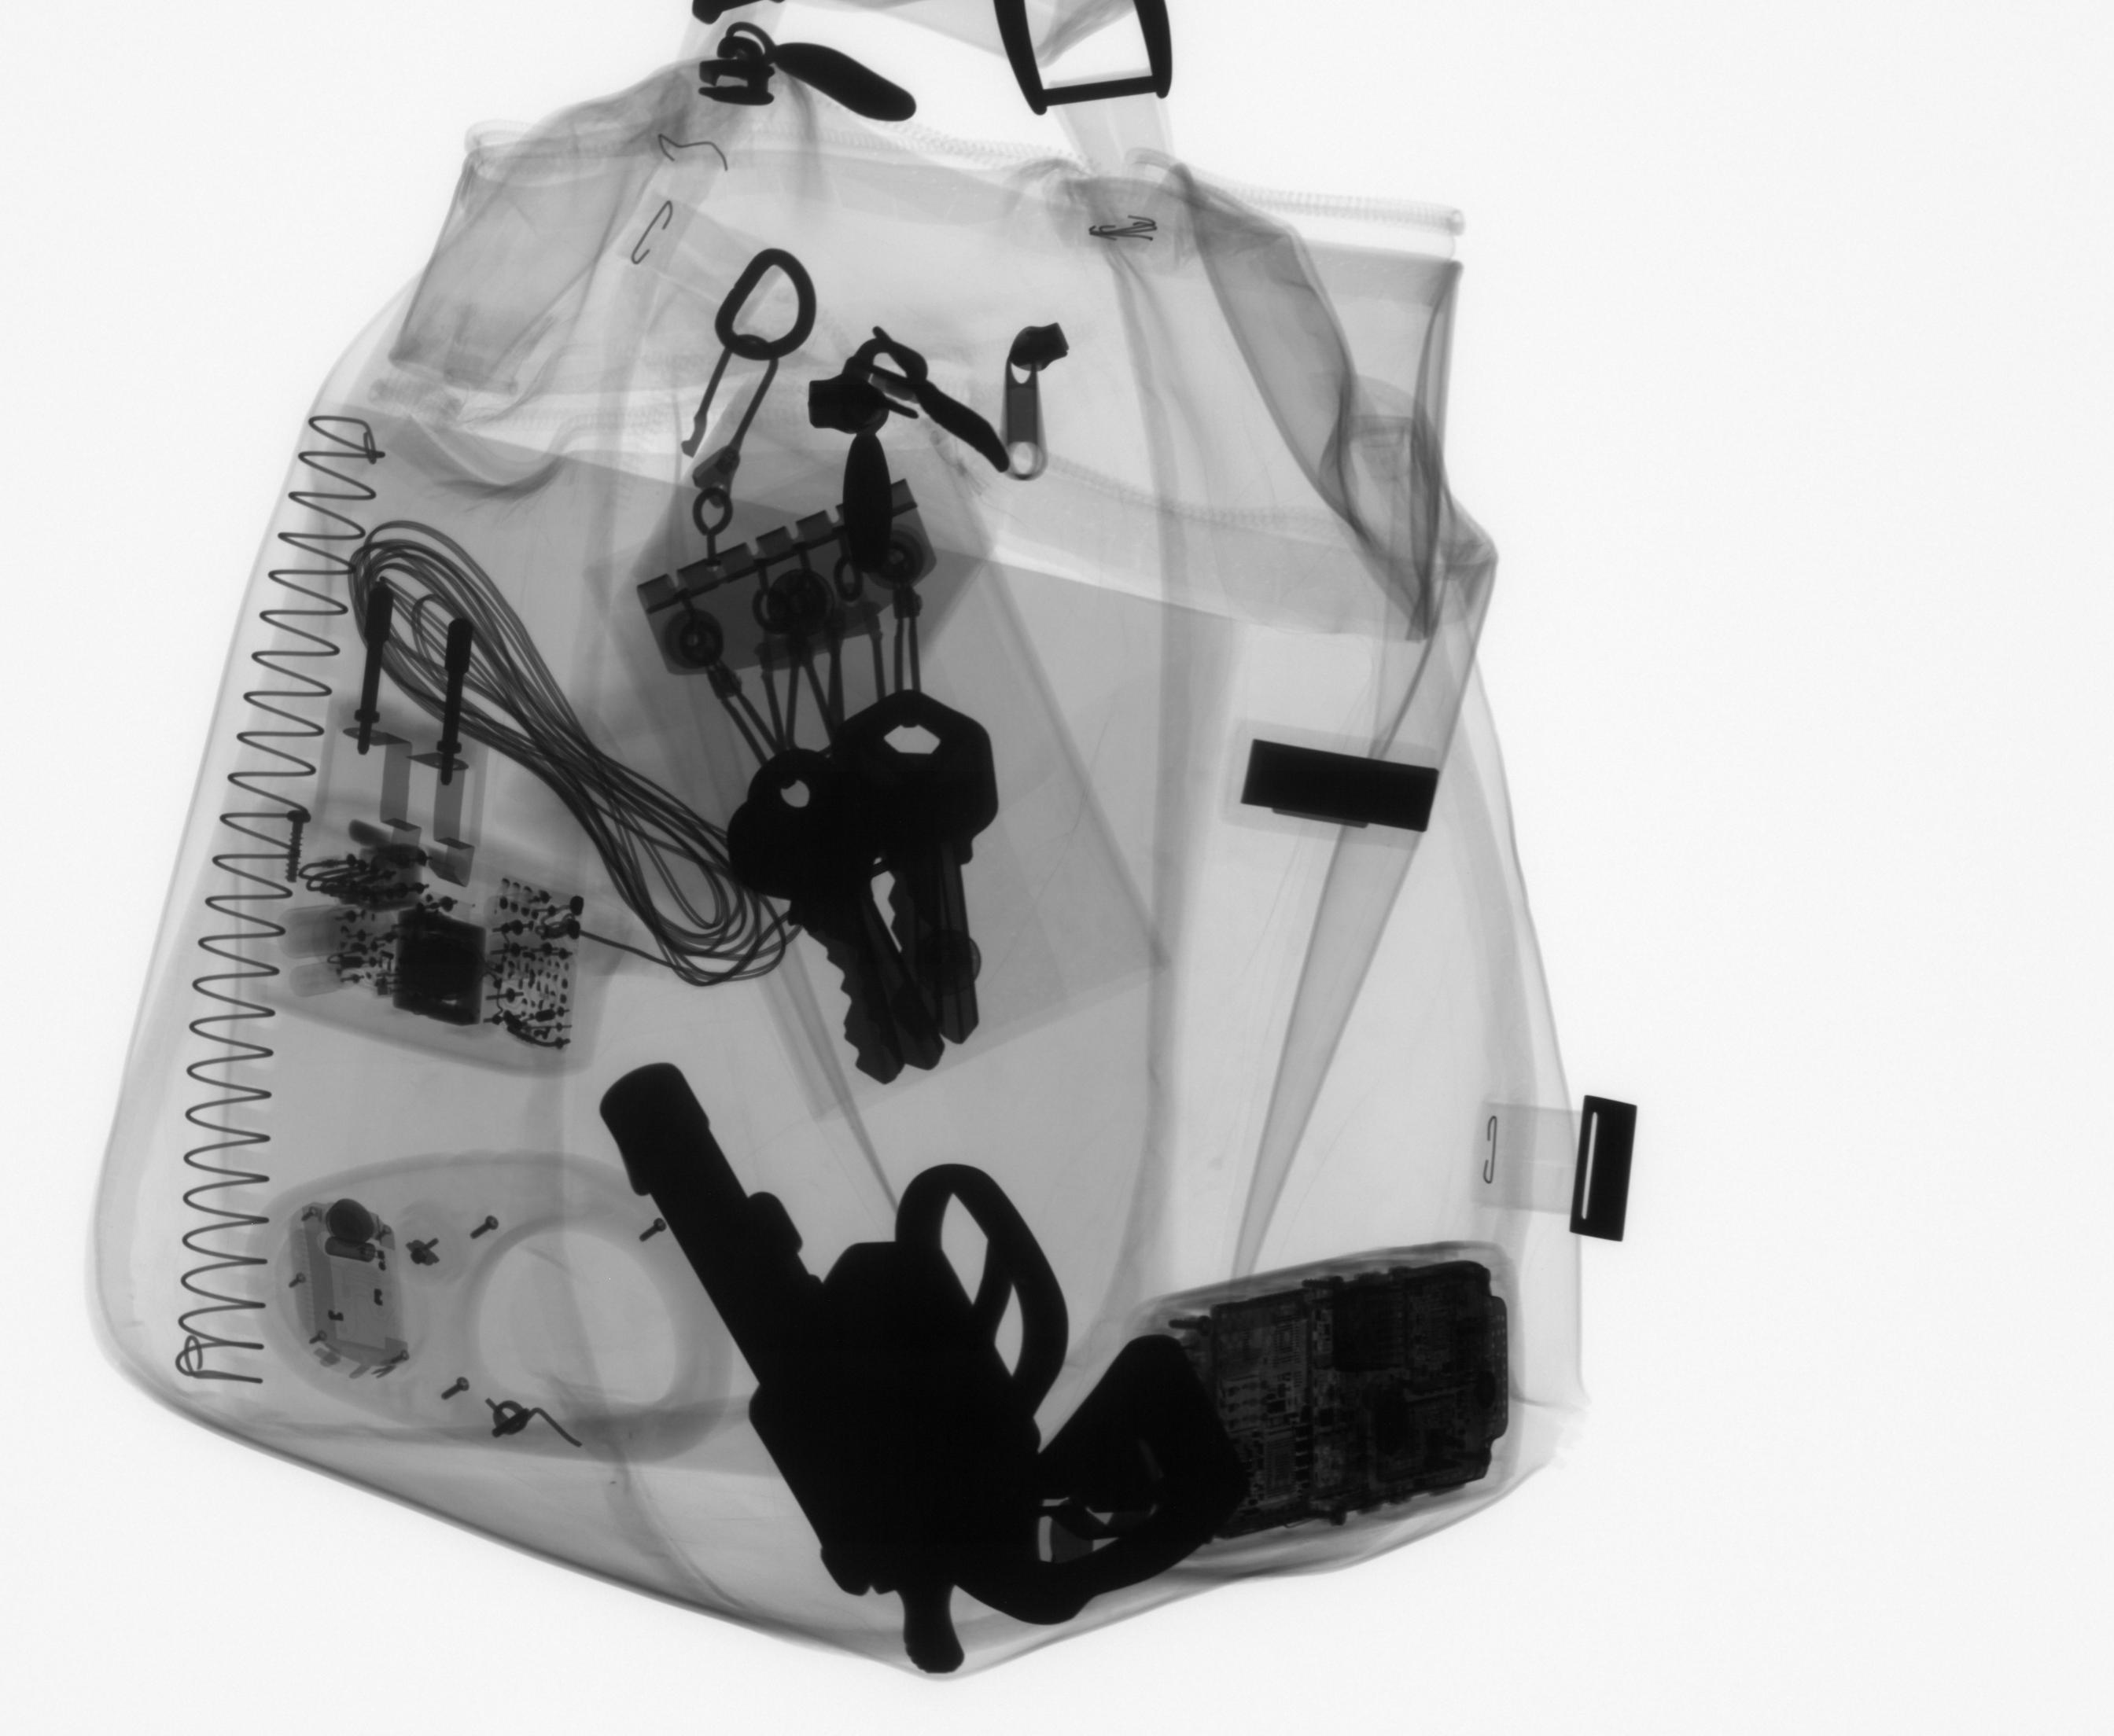Handgun: (586, 1046, 1255, 1680)
